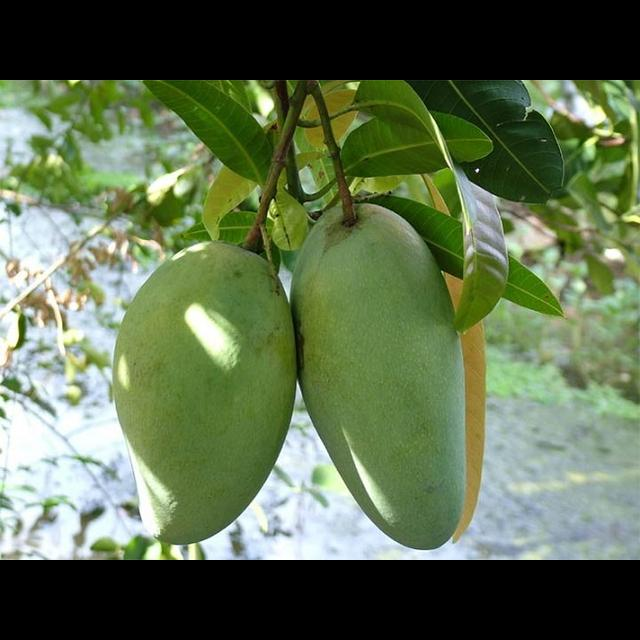xoai: (289, 205, 466, 549), (110, 239, 299, 545)
